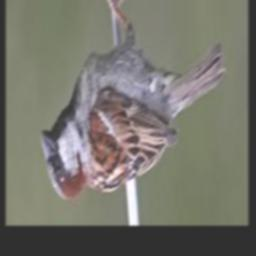Sparrow: (41, 0, 226, 202)
